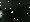person: (1, 11, 3, 21)
